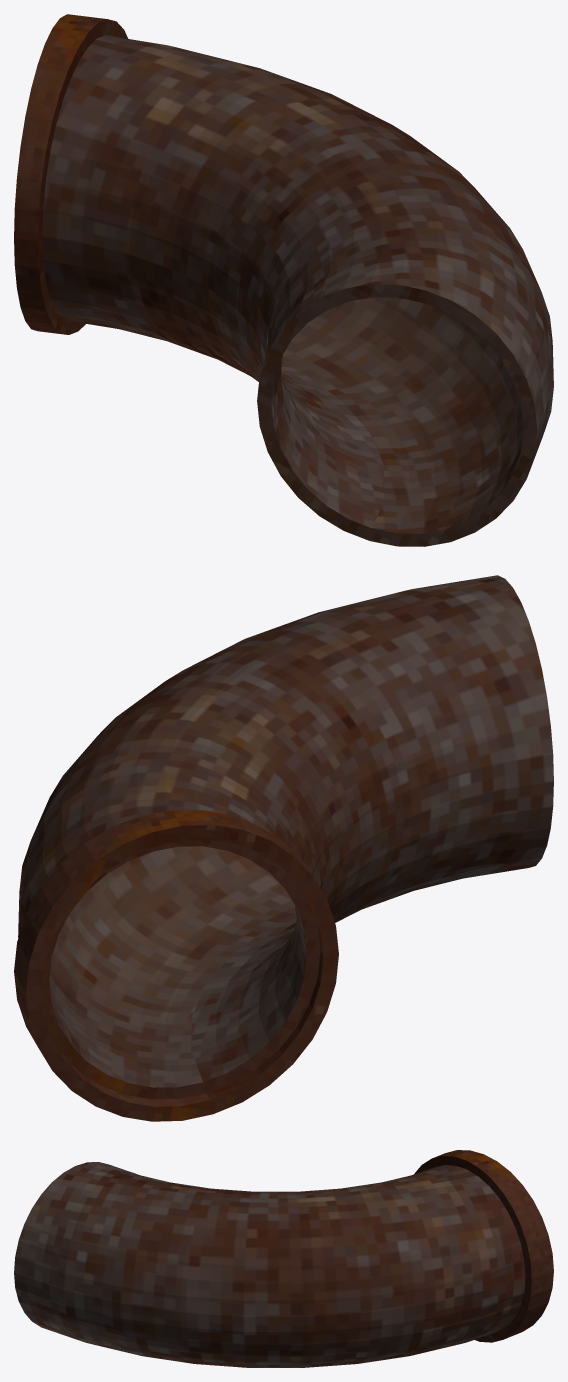
Rendered from pipe_curve.fbx.
3 renders of one model, top to bottom at view 1: azimuth 30°, elevation 25°; view 2: azimuth 150°, elevation 25°; view 3: azimuth 270°, elevation 25°, orthographic. The views are drawn at different scales.
Parts seen in each view (by area): view 1: pipe_curve; view 2: pipe_curve; view 3: pipe_curve.
Boxes of the visible parts, <box> form: pipe_curve: <box>14,14,553,546</box>; pipe_curve: <box>14,575,553,1121</box>; pipe_curve: <box>14,1150,553,1367</box>.
Size of the model in its own units: 275 by 221 by 612.
